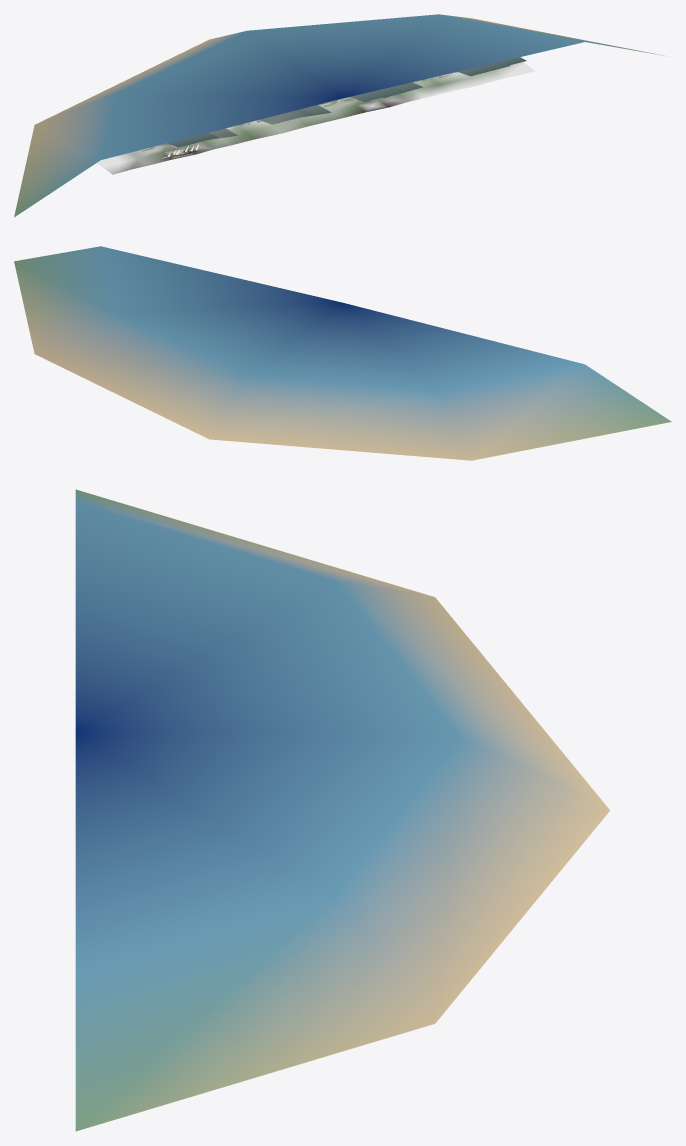
The model's file is Forest_08.fbx.
3 renders of one model, top to bottom at view 1: azimuth 30°, elevation 25°; view 2: azimuth 150°, elevation 25°; view 3: azimuth 270°, elevation 25°, orthographic. The views are drawn at different scales.
Parts seen in each view (by area): view 1: Light_01, Bg_01_A, Cloud_01; view 2: Light_01; view 3: Light_01.
Part boxes in pixels (x1,y1,x2,y2): Light_01: (14, 14, 666, 217); Bg_01_A: (97, 62, 535, 174); Cloud_01: (167, 57, 526, 147); Light_01: (14, 246, 671, 460); Light_01: (75, 489, 609, 1131).
Size of the model in its own units: 8461 by 478 by 2977.
